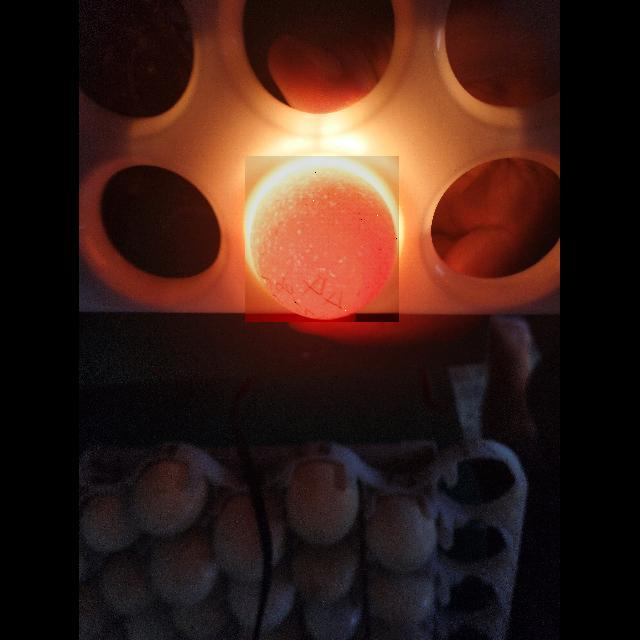Infertile: (245, 156, 399, 322)
